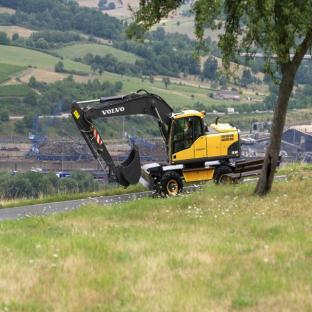ExcavationMachinery: (52, 84, 250, 202)
